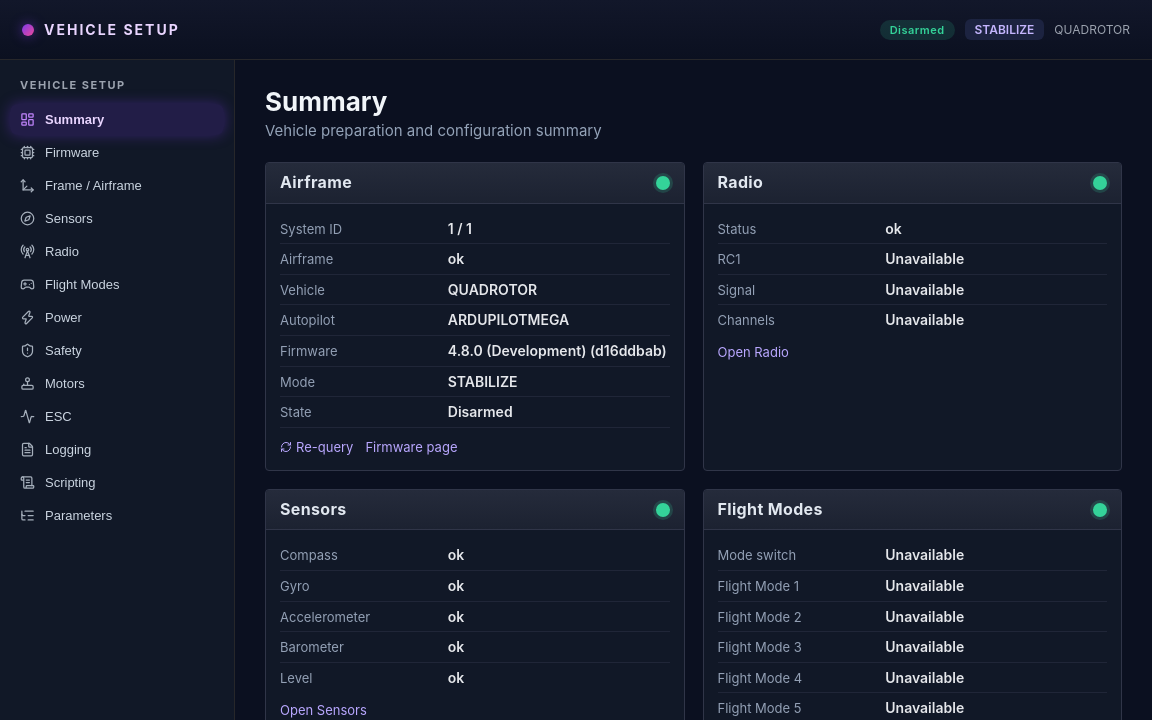
Test case: SetupConfig — shell and navigation › reuses the existing Flight Modes component under Setup
The width and height of the screenshot is (1152, 720).
Click the button with test id "setup-nav-modes".
click(117, 284)  # box [10, 269, 224, 300]
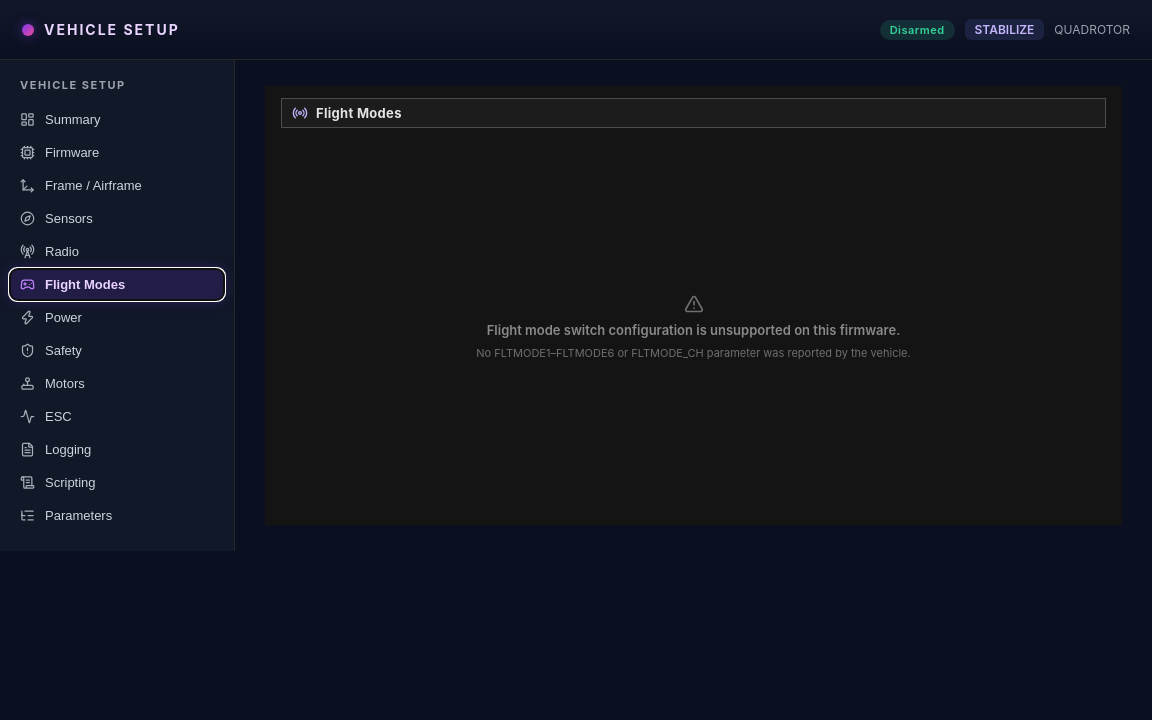
Result: the element with test id "fm-screen" is shown at [265, 86, 1122, 525]
